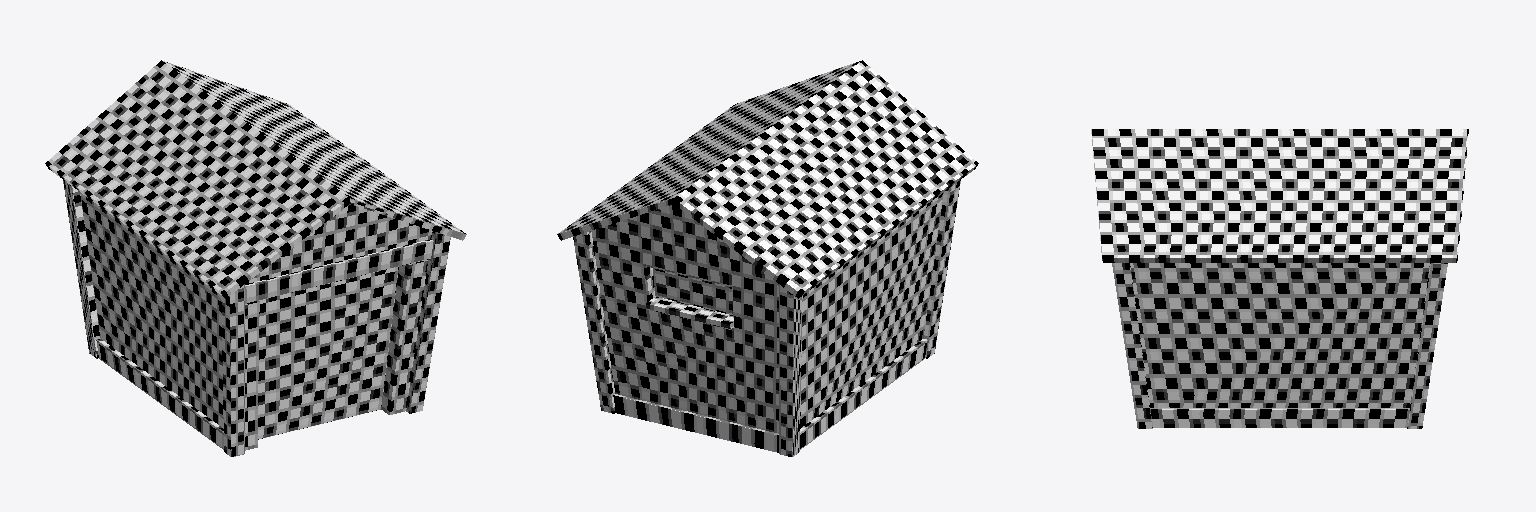
3 renders of one model, left to right at view 1: azimuth 30°, elevation 25°; view 2: azimuth 150°, elevation 25°; view 3: azimuth 270°, elevation 25°, orthographic.
Visible parts, largest first — view 1: CASA_02; view 2: CASA_02; view 3: CASA_02.
Part boxes in pixels (x1,y1,x2,y2): CASA_02: (45, 60, 466, 456); CASA_02: (557, 60, 978, 456); CASA_02: (1091, 129, 1468, 428).
Bounding box in the file's own units: 44.74 × 44.43 × 60.05.
1 materials, 1 textured.